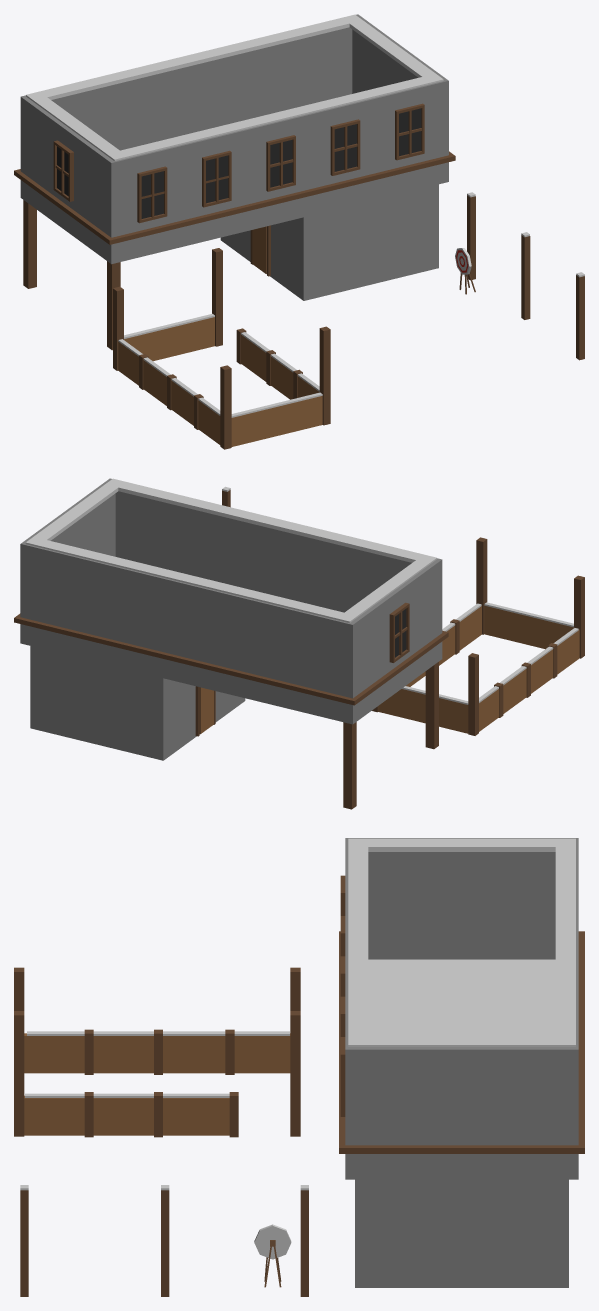
The model's file is ArcheryRange_build_snow_mat.fbx.
3 renders of one model, top to bottom at view 1: azimuth 30°, elevation 25°; view 2: azimuth 150°, elevation 25°; view 3: azimuth 270°, elevation 25°, orthographic. The views are drawn at different scales.
Visible parts, largest first — view 1: ArcheryRange_build_snow_mat; view 2: ArcheryRange_build_snow_mat; view 3: ArcheryRange_build_snow_mat.
Boxes of the visible parts, x1=… form: ArcheryRange_build_snow_mat: x1=14, y1=14, x2=584, y2=449; ArcheryRange_build_snow_mat: x1=14, y1=478, x2=584, y2=809; ArcheryRange_build_snow_mat: x1=14, y1=838, x2=584, y2=1296.
Size of the model in its own units: 672 by 337 by 712.
